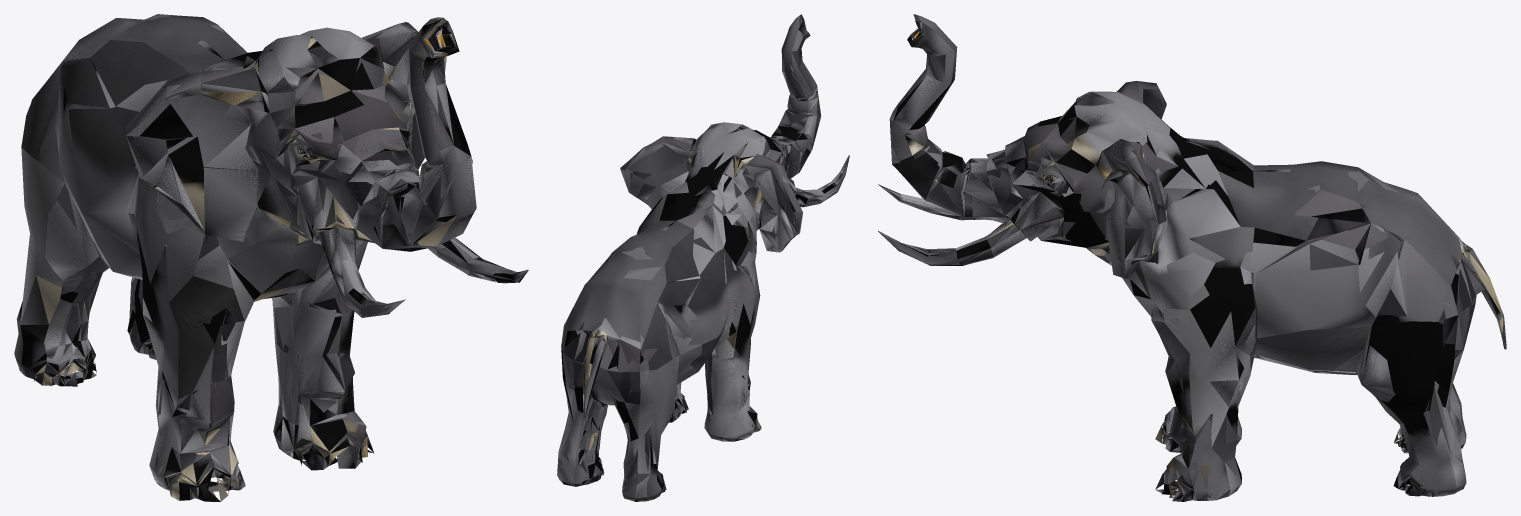
File: creature_elephant.fbx
3 renders of one model, left to right at view 1: azimuth 30°, elevation 25°; view 2: azimuth 150°, elevation 25°; view 3: azimuth 270°, elevation 25°, orthographic. The views are drawn at different scales.
Parts seen in each view (by area): view 1: creature_elephant_body, creature_elephant_head, creature_elephant_leg_br, creature_elephant_leg_fr, creature_elephant_leg_fl, creature_elephant_leg_bl; view 2: creature_elephant_body, creature_elephant_leg_br, creature_elephant_head, creature_elephant_leg_bl, creature_elephant_tail; view 3: creature_elephant_body, creature_elephant_leg_bl, creature_elephant_head, creature_elephant_leg_fl, creature_elephant_leg_br, creature_elephant_tail.
Part boxes in pixels (x1,y1,x2,y2): creature_elephant_body: (21,14,446,301); creature_elephant_head: (276,17,528,317); creature_elephant_leg_br: (14,147,216,490); creature_elephant_leg_fr: (162,259,299,501); creature_elephant_leg_fl: (264,241,373,470); creature_elephant_leg_bl: (127,277,354,457); creature_elephant_body: (561,122,802,372); creature_elephant_leg_br: (583,292,756,501); creature_elephant_head: (732,14,849,215); creature_elephant_leg_bl: (557,334,684,486); creature_elephant_tail: (582,337,606,417); creature_elephant_body: (1054,81,1484,353); creature_elephant_leg_bl: (1189,298,1506,500); creature_elephant_head: (878,14,1086,265); creature_elephant_leg_fl: (1151,320,1195,501); creature_elephant_leg_br: (1236,317,1504,453); creature_elephant_tail: (1465,249,1506,347).
Size of the model in its own units: 815 by 1414 by 1785.
1 material, 1 textured.
